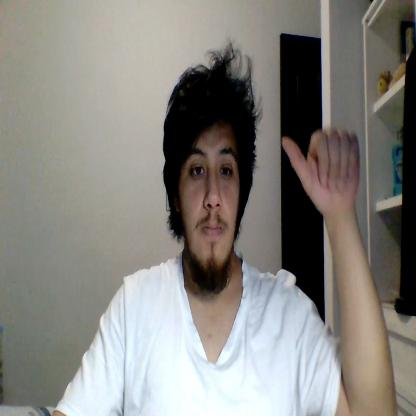A: (281, 126, 361, 213)
